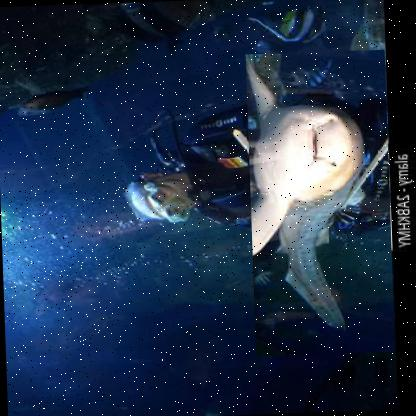zebra_shark: (245, 49, 395, 358)
